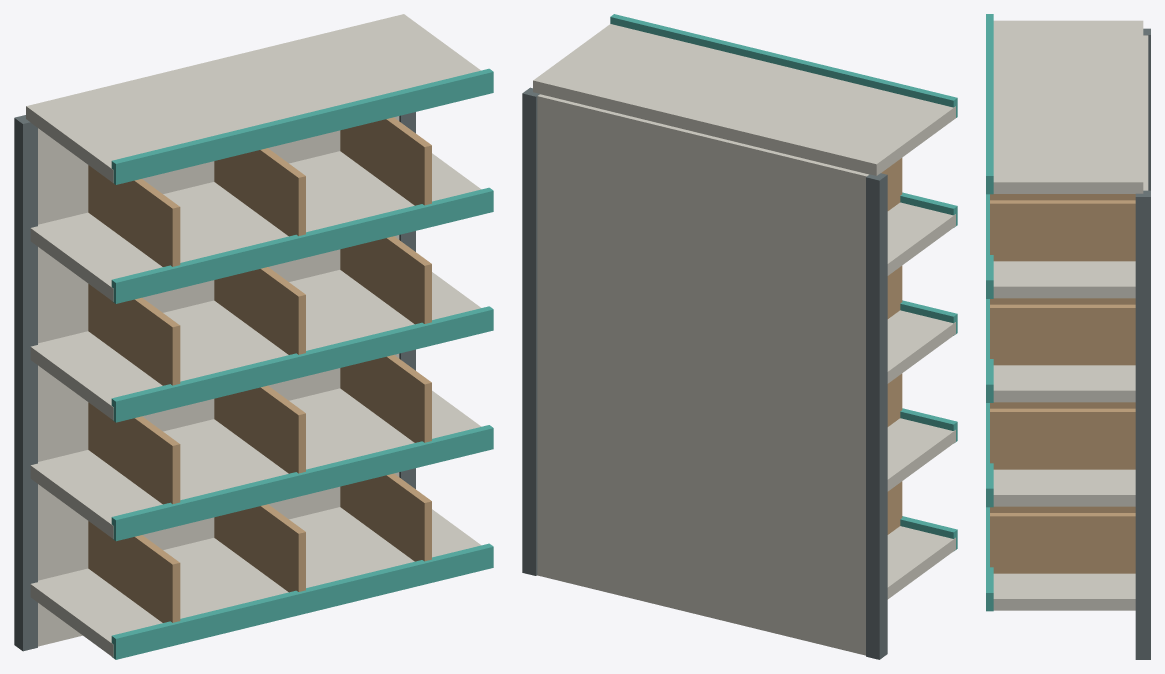
Rendered from supermarket-operations-bakery-wall-rack-60417ed2__26750.glb.
3 renders of one model, left to right at view 1: azimuth 30°, elevation 25°; view 2: azimuth 150°, elevation 25°; view 3: azimuth 270°, elevation 25°, orthographic. The views are drawn at different scales.
Parts seen in each view (by area): view 1: bakery-wall-rack; view 2: bakery-wall-rack; view 3: bakery-wall-rack.
Boxes of the visible parts, x1=… form: bakery-wall-rack: x1=14, y1=14, x2=493, y2=659; bakery-wall-rack: x1=522, y1=14, x2=957, y2=659; bakery-wall-rack: x1=986, y1=14, x2=1150, y2=659.
Size of the model in its own units: 1.56 by 2.08 by 0.6451.
